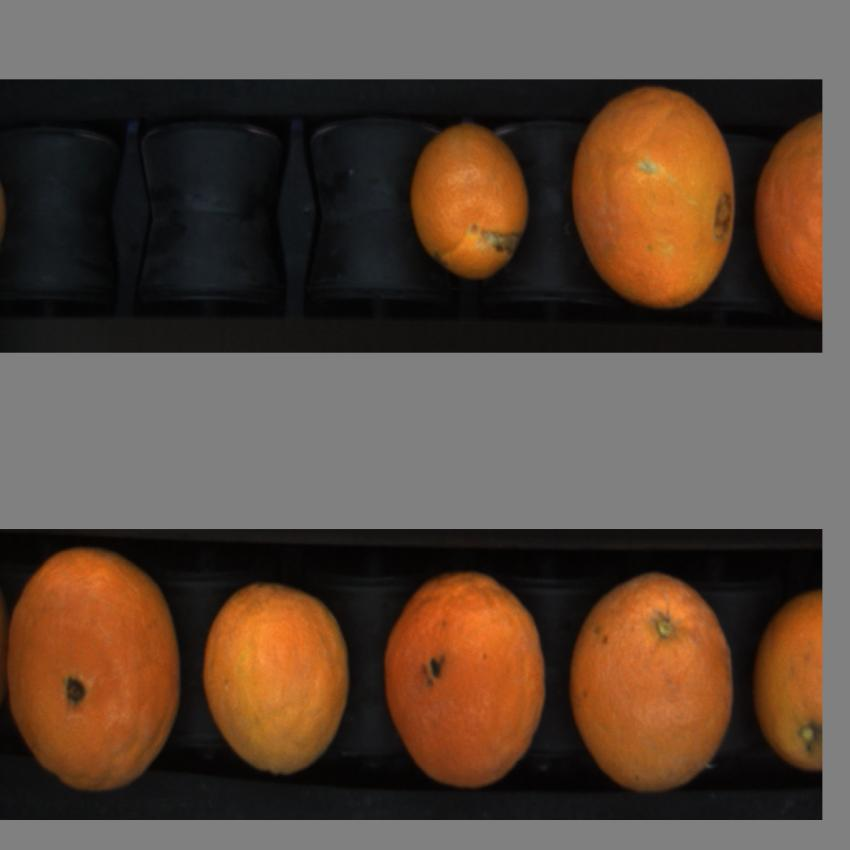Buen estado: (3, 541, 183, 804), (376, 566, 551, 801), (569, 553, 736, 799), (568, 82, 740, 320), (197, 568, 356, 797), (753, 106, 821, 326), (750, 582, 822, 782)
Mal estado: (406, 115, 534, 291)
